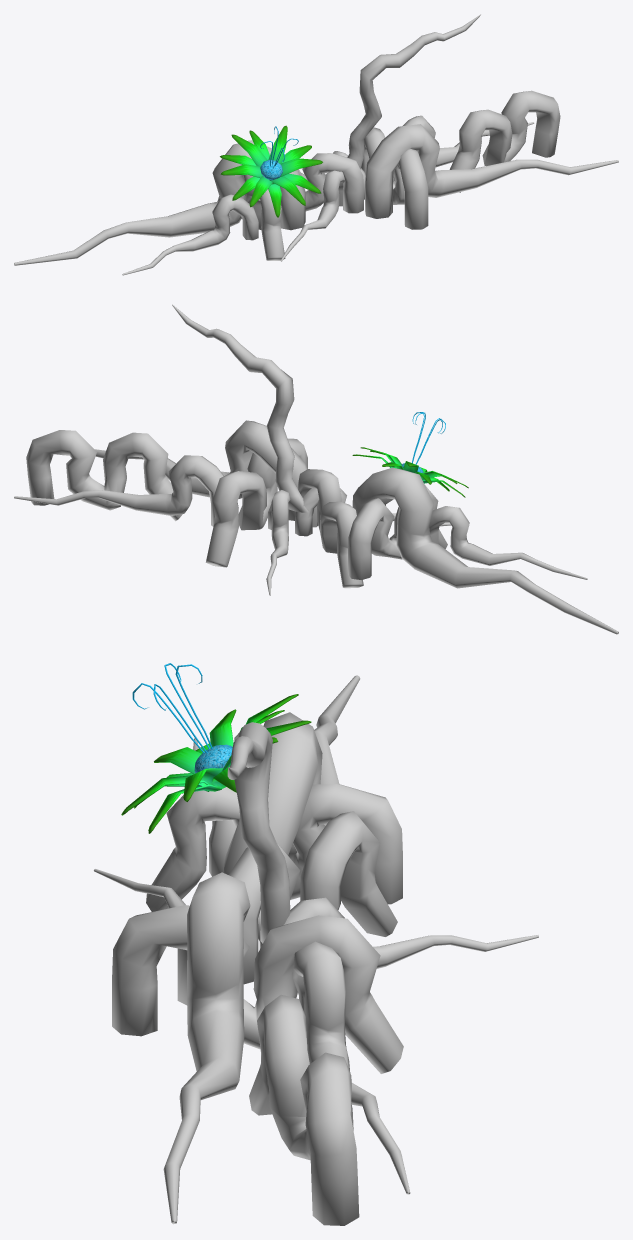
The model's file is Bush_Mutant_Root_02.fbx.
The picture shows the model from 3 angles, top to bottom: view 1: azimuth 30°, elevation 25°; view 2: azimuth 150°, elevation 25°; view 3: azimuth 270°, elevation 25°; orthographic projection. The views are drawn at different scales.
Visible parts, largest first — view 1: Branch (×2), Branch4, Branch5 (1), Pistil (2), Branch5, Branch2, Branch7, Branch9, Branch1, Branch8; view 2: Branch (×2), Branch5 (1), Branch5, Branch8, Branch2, Branch9, Branch4, Branch7, Branch3, Pistil (2), Branch1; view 3: Branch5, Branch4, Branch5 (1), Branch (×2), Branch9, Branch2, Branch8, Pistil (2), Branch3, Branch7, Branch1.
Part boxes in pixels (x1=…): Branch (×2): x1=14, y1=14, x2=480, y2=265; Branch4: x1=365, y1=124, x2=618, y2=218; Branch5 (1): x1=449, y1=90, x2=560, y2=192; Pistil (2): x1=220, y1=125, x2=322, y2=217; Branch5: x1=361, y1=127, x2=428, y2=229; Branch2: x1=241, y1=153, x2=363, y2=219; Branch7: x1=122, y1=194, x2=258, y2=275; Branch9: x1=243, y1=174, x2=285, y2=260; Branch1: x1=280, y1=170, x2=344, y2=261; Branch8: x1=394, y1=115, x2=534, y2=180; Branch (×2): x1=172, y1=304, x2=618, y2=634; Branch5 (1): x1=26, y1=430, x2=182, y2=521; Branch5: x1=205, y1=438, x2=307, y2=567; Branch8: x1=14, y1=455, x2=223, y2=526; Branch2: x1=298, y1=469, x2=363, y2=588; Branch9: x1=348, y1=485, x2=447, y2=579; Branch4: x1=95, y1=420, x2=307, y2=520; Branch7: x1=429, y1=506, x2=587, y2=579; Branch3: x1=266, y1=490, x2=290, y2=595; Pistil (2): x1=352, y1=412, x2=468, y2=497; Branch1: x1=295, y1=488, x2=451, y2=536; Branch5: x1=112, y1=905, x2=403, y2=1073; Branch4: x1=163, y1=872, x2=250, y2=1224; Branch5 (1): x1=249, y1=994, x2=359, y2=1225; Branch (×2): x1=224, y1=675, x2=360, y2=943; Branch9: x1=146, y1=784, x2=402, y2=911; Branch2: x1=229, y1=811, x2=397, y2=984; Branch8: x1=293, y1=941, x2=410, y2=1194; Pistil (2): x1=121, y1=663, x2=311, y2=833; Branch3: x1=284, y1=897, x2=538, y2=968; Branch7: x1=193, y1=738, x2=235, y2=876; Branch1: x1=94, y1=869, x2=262, y2=949.
Size of the model in its own units: 14.54 by 4.73 by 5.02.
